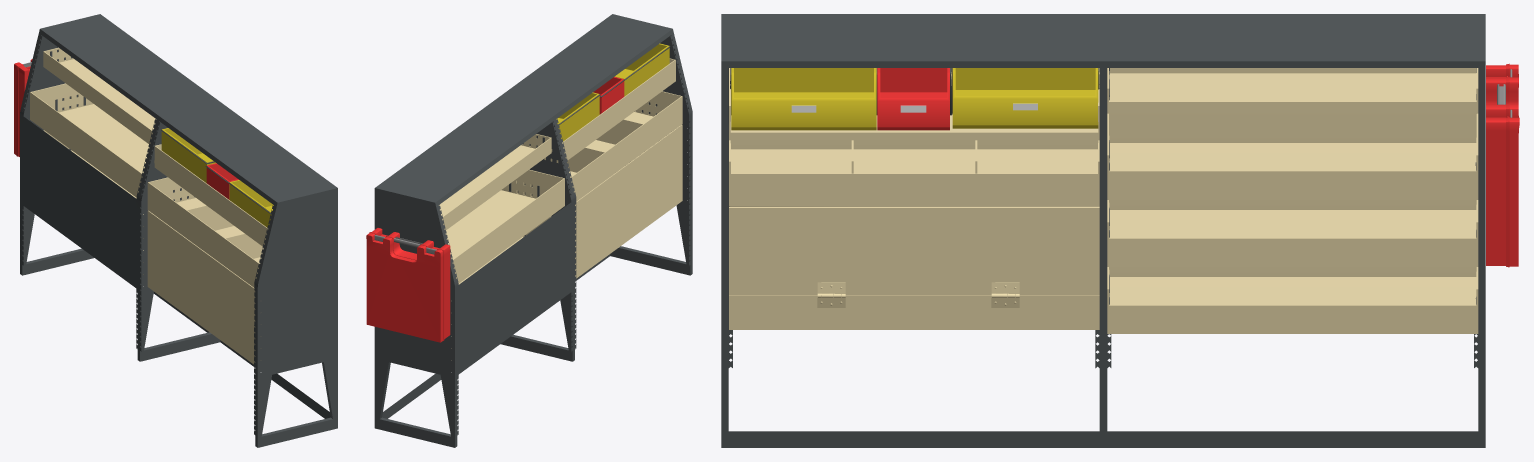
The model's file is GeneralKit–LongBays.fbx.
The picture shows the model from 3 angles, left to right: view 1: azimuth 30°, elevation 25°; view 2: azimuth 150°, elevation 25°; view 3: azimuth 270°, elevation 25°; orthographic projection. The views are drawn at different scales.
Visible parts, largest first — view 1: Steel, Cream_Paint, Yellow, RED_Plastic; view 2: Steel, Cream_Paint, RED_Plastic, Yellow; view 3: Cream_Paint, Steel, Yellow, RED_Plastic.
Part boxes in pixels (<box>): Steel: <box>20,14,337,447</box>; Cream_Paint: <box>30,47,268,364</box>; Yellow: <box>161,128,273,227</box>; RED_Plastic: <box>14,59,238,199</box>; Steel: <box>374,14,692,447</box>; Cream_Paint: <box>439,58,682,360</box>; RED_Plastic: <box>366,77,624,342</box>; Yellow: <box>556,43,669,141</box>; Cream_Paint: <box>729,68,1478,333</box>; Steel: <box>721,14,1485,447</box>; Yellow: <box>731,68,1098,130</box>; RED_Plastic: <box>877,63,1519,267</box>.
Bounding box in the file's own units: 414 × 1160 × 2171.
